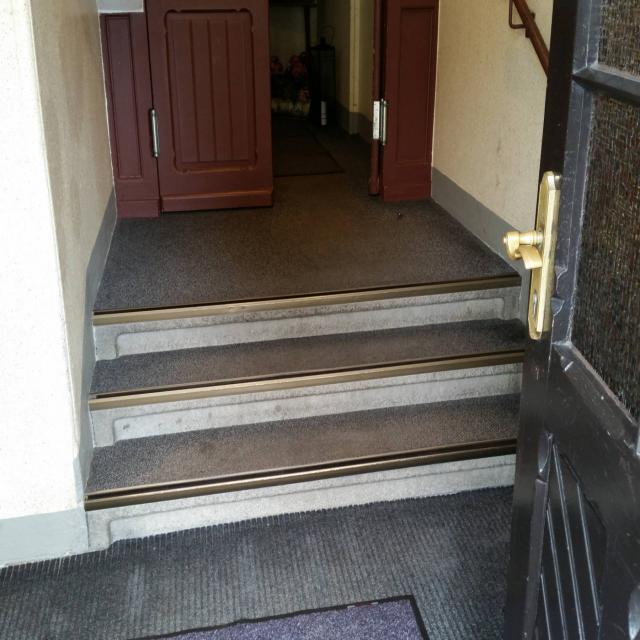AVOID: (74, 274, 535, 540)
